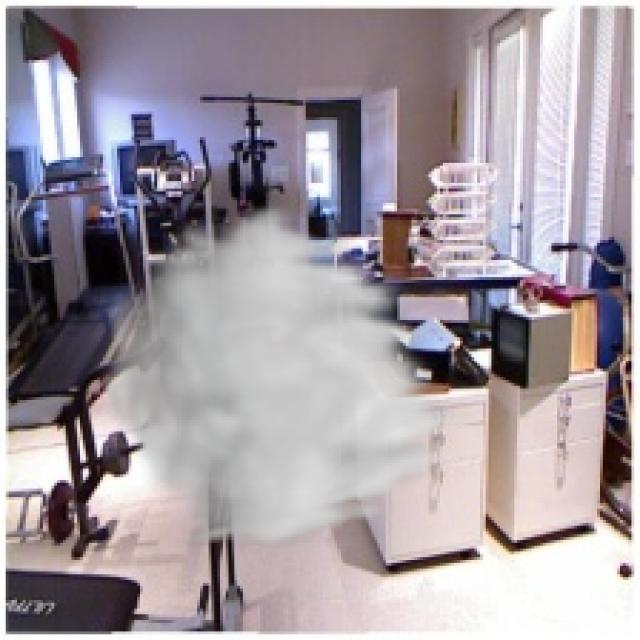smoke: (94, 200, 474, 551)
